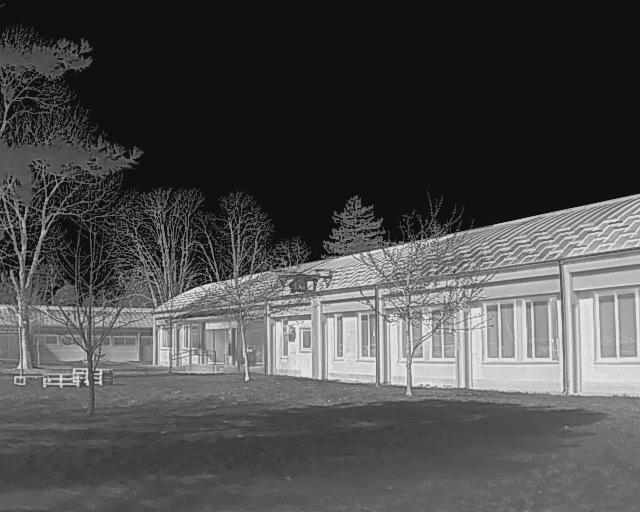drone: (268, 258, 334, 300)
